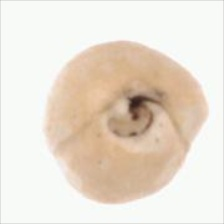L3: (102, 89, 163, 138)
L4: (45, 41, 209, 203)
